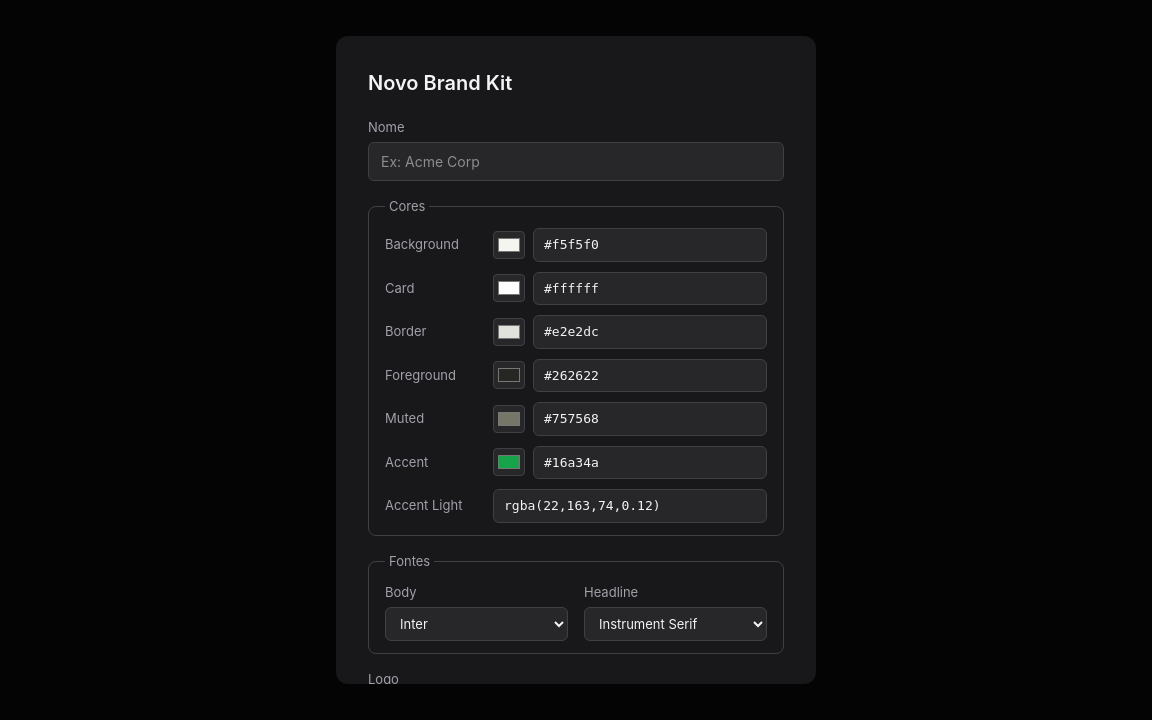
Test: BrandKitModal › disables save until valid
In the field labelled "Nome": [576, 161] box left=368, top=142, right=784, bottom=180, type "Acme"
(page scrolled)
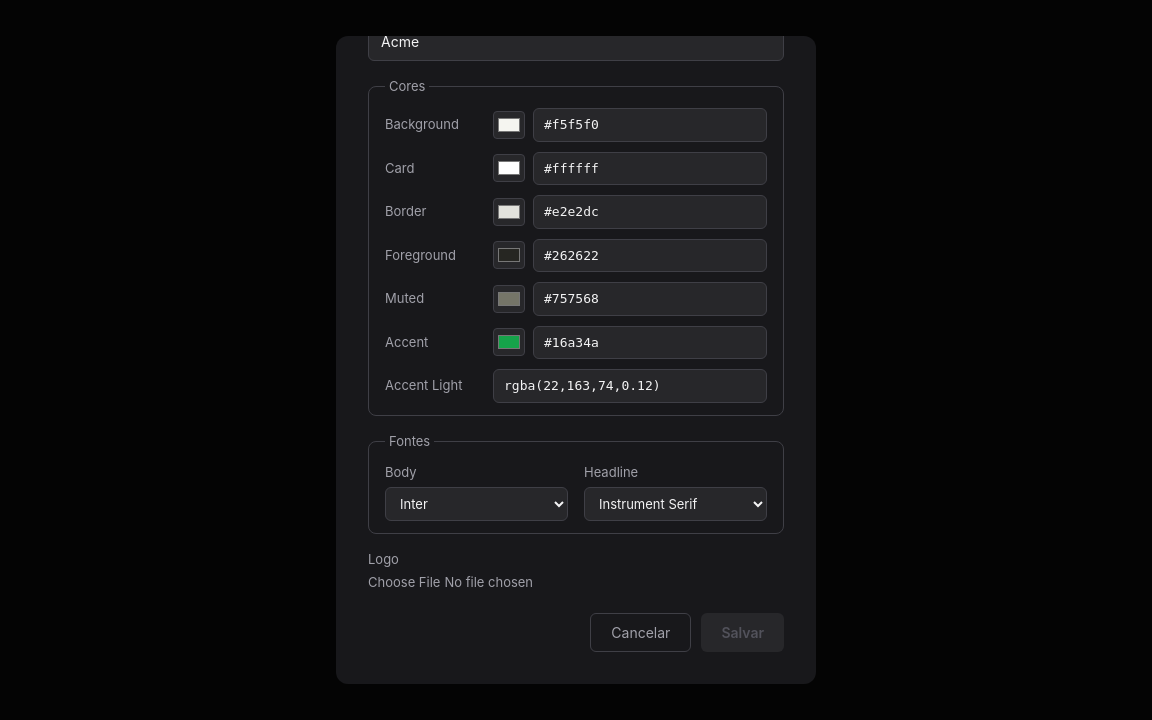
Expected: the button "Salvar" is disabled, left=701, top=612, right=784, bottom=652
